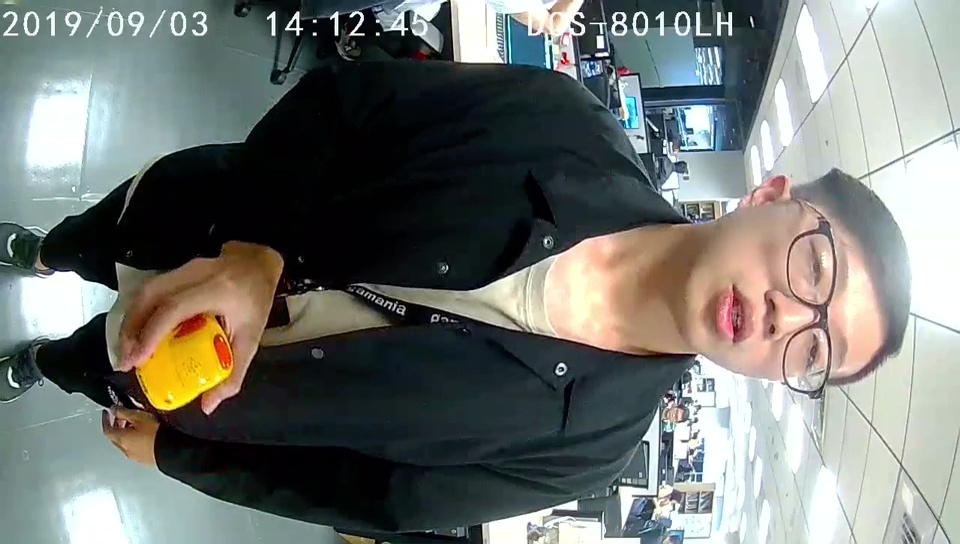car: (136, 312, 233, 410)
